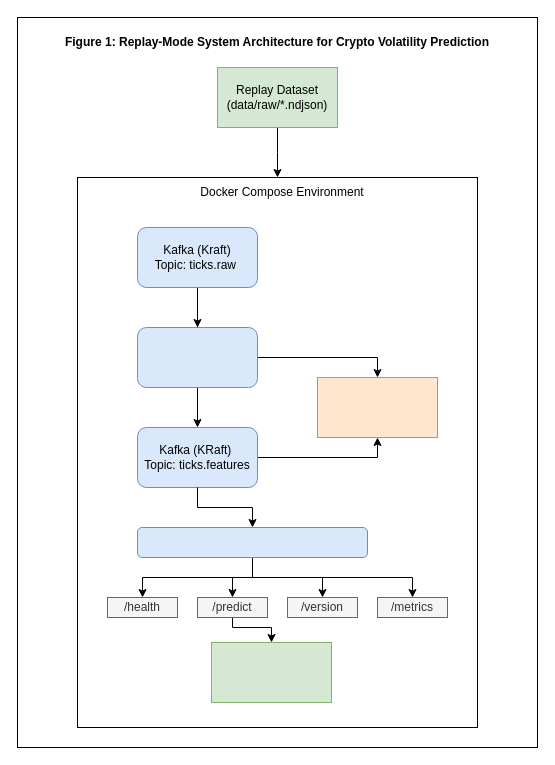
Image size: 555x765. Some labels were removed from this diagram. The shapes that lost their labels are listed below. From the top down, each one's centre as x and y in pixels, then its label:
[197,357]: Featurizer Service features/featurizer.py
[377,407]: MLflow Tracking Server
[252,542]: FastAPI Service
[271,672]: Prediction Output class + probability
